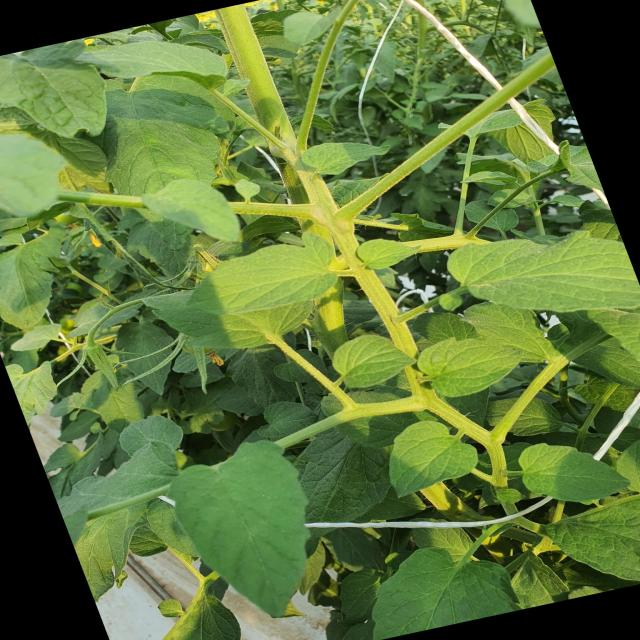Healthy Leaf: (170, 454, 322, 616), (370, 533, 520, 640)
